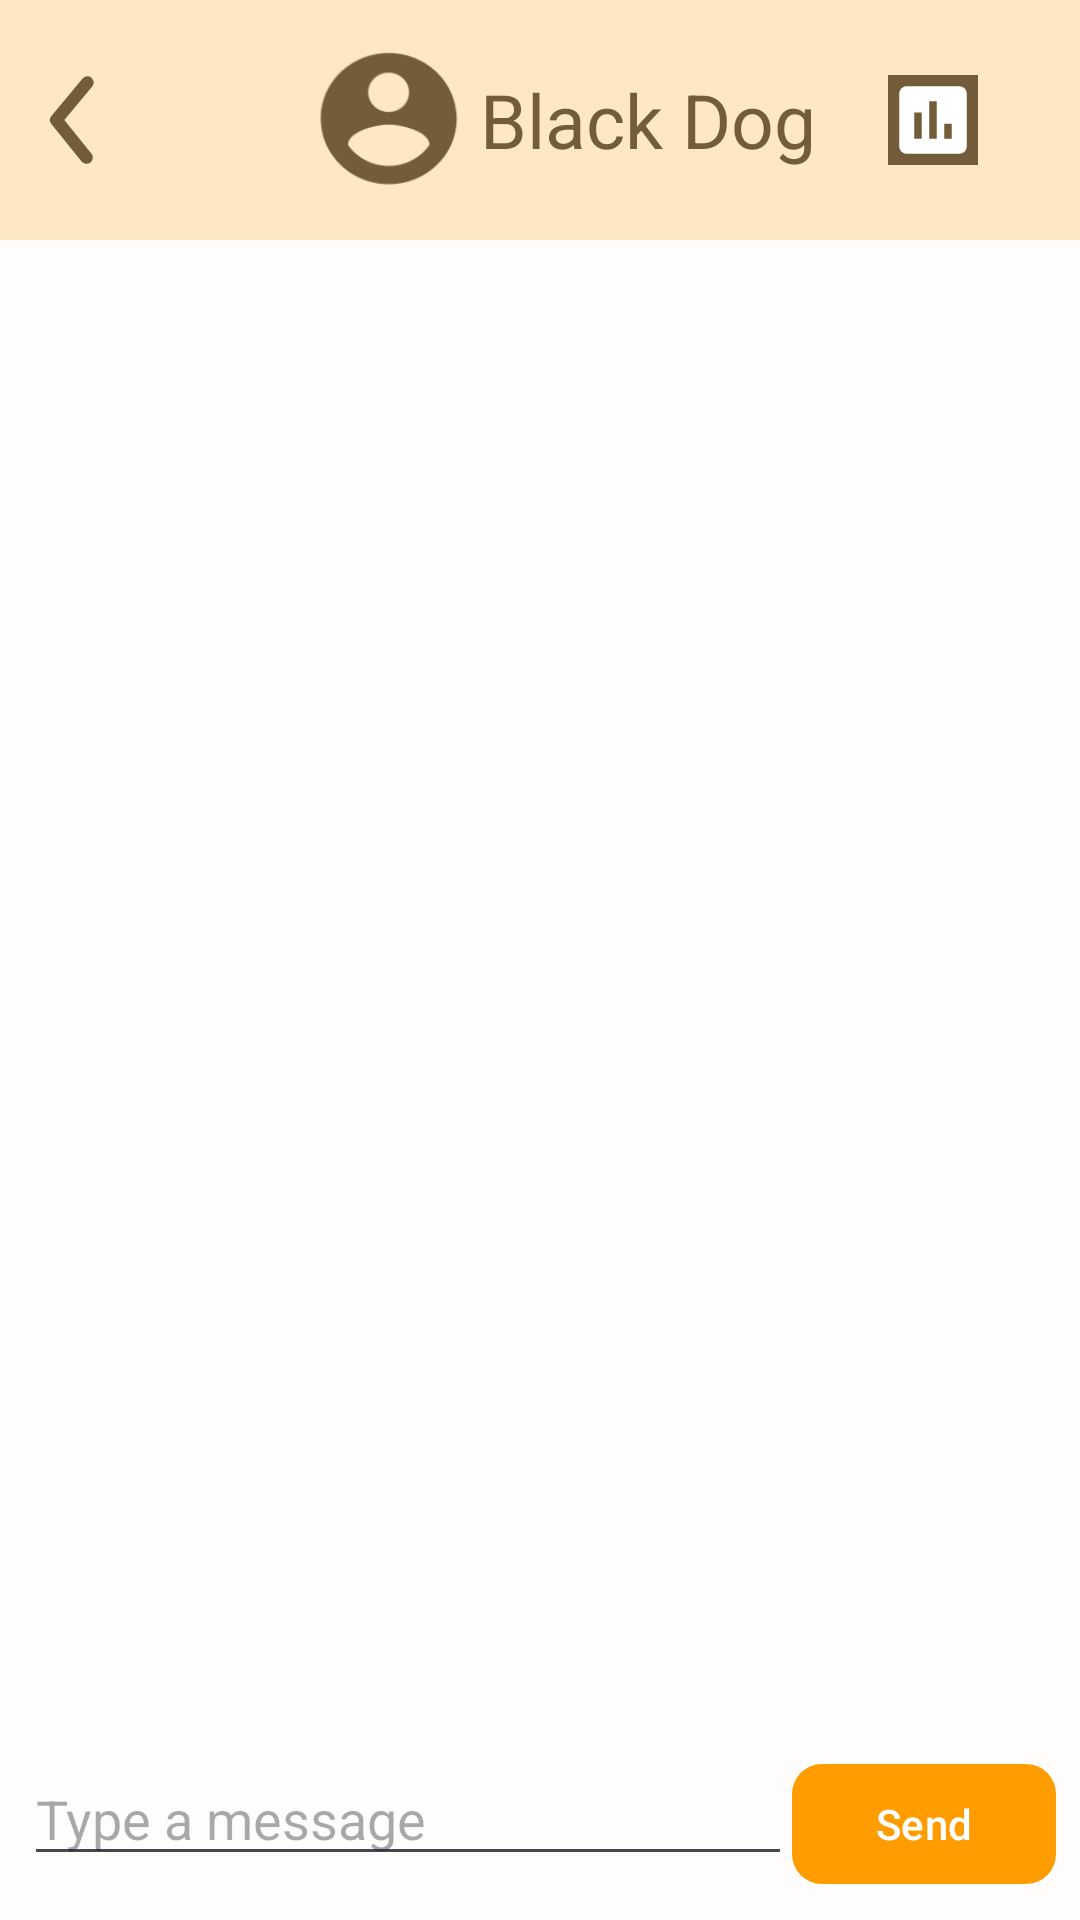

Named icons in this screenshot (1080 x 1920) and their centers, [x,y]:
on surface profile photo: [388,119]
results: [933,120]
